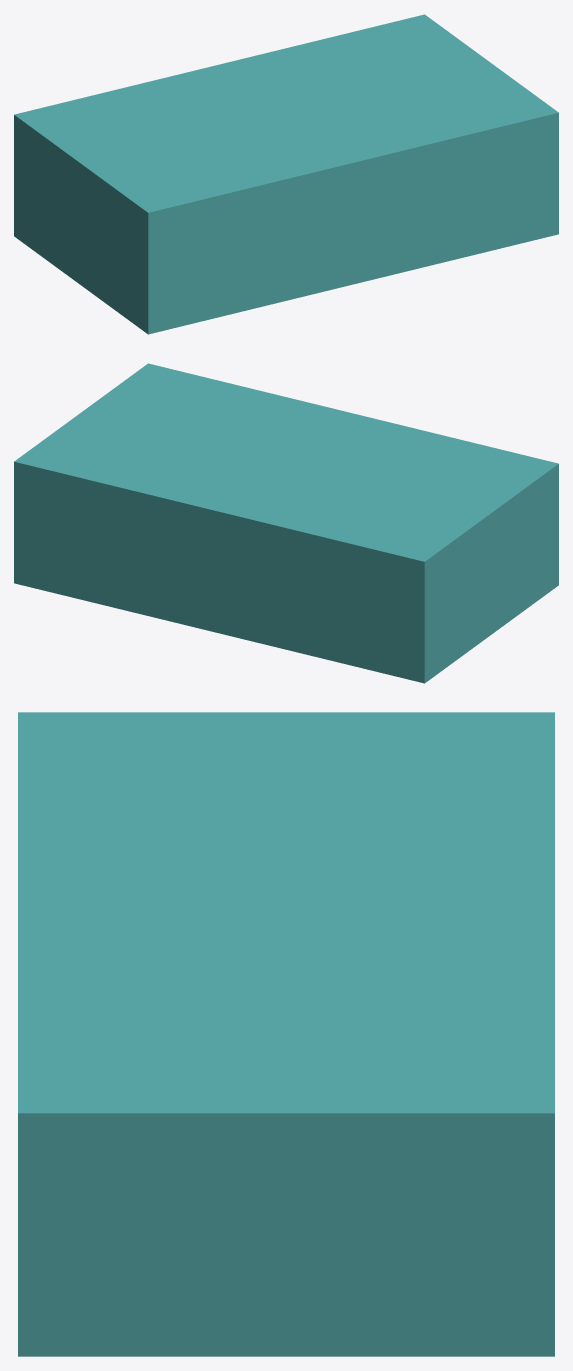
File: surfista_cintura.glb
The picture shows the model from 3 angles, top to bottom: view 1: azimuth 30°, elevation 25°; view 2: azimuth 150°, elevation 25°; view 3: azimuth 270°, elevation 25°; orthographic projection. The views are drawn at different scales.
Visible parts, largest first — view 1: surfista_cintura; view 2: surfista_cintura; view 3: surfista_cintura.
Boxes of the visible parts, x1,y1,x2,y2 form: surfista_cintura: (14, 14, 558, 334); surfista_cintura: (14, 363, 558, 683); surfista_cintura: (18, 712, 554, 1356).
Size of the model in its own units: 0.53 by 0.15 by 0.3.
